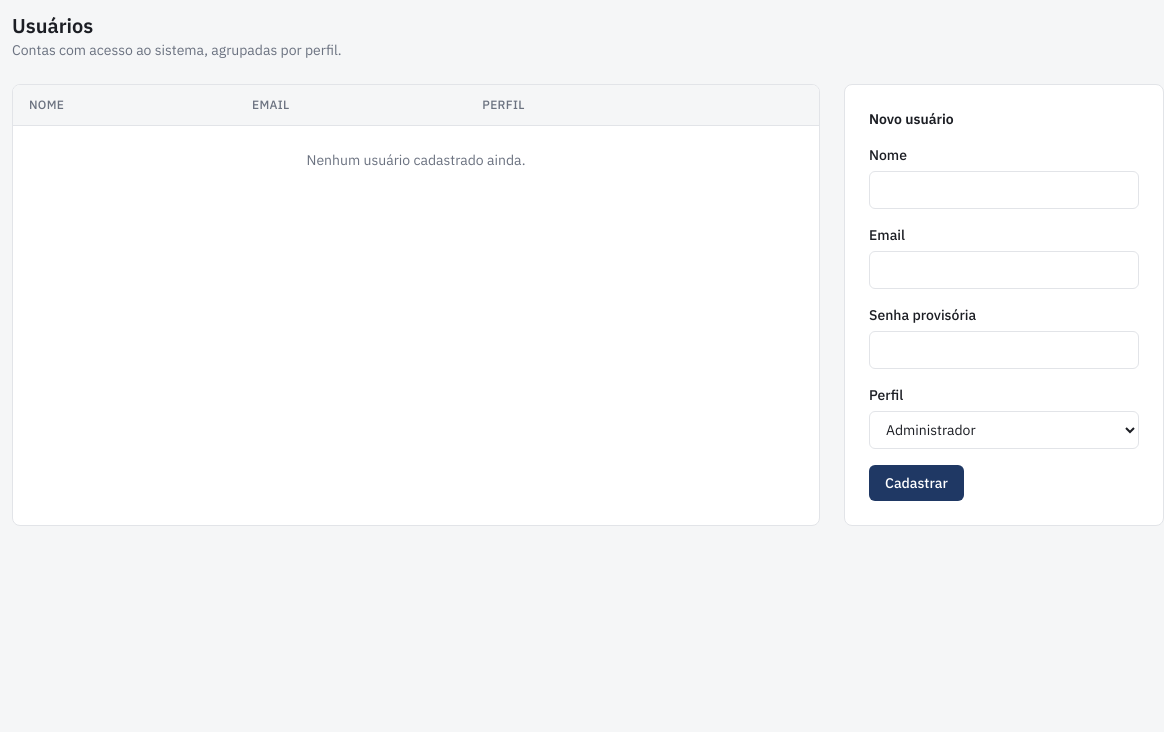
Test: UsuariosPage › mostra o erro da API quando o email já está em uso
The width and height of the screenshot is (1164, 732).
Expected: the dropdown labelled "Perfil" shows "Administrador", [869,411,1139,449]
Type "Bruno" into the field labelled "Nome". click: (1004,190)
box: [869,171,1139,209]
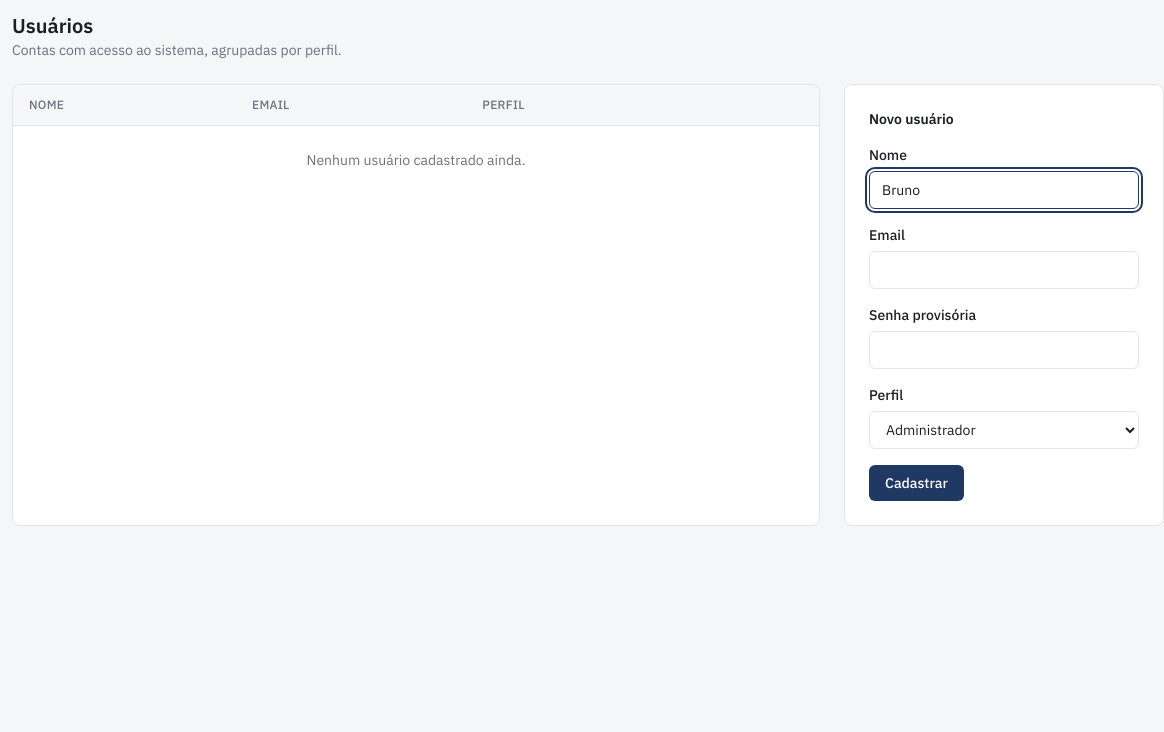
Type "ana@teste.com" into the field labelled "Email". click: (1004,270)
box: [869,251,1139,289]
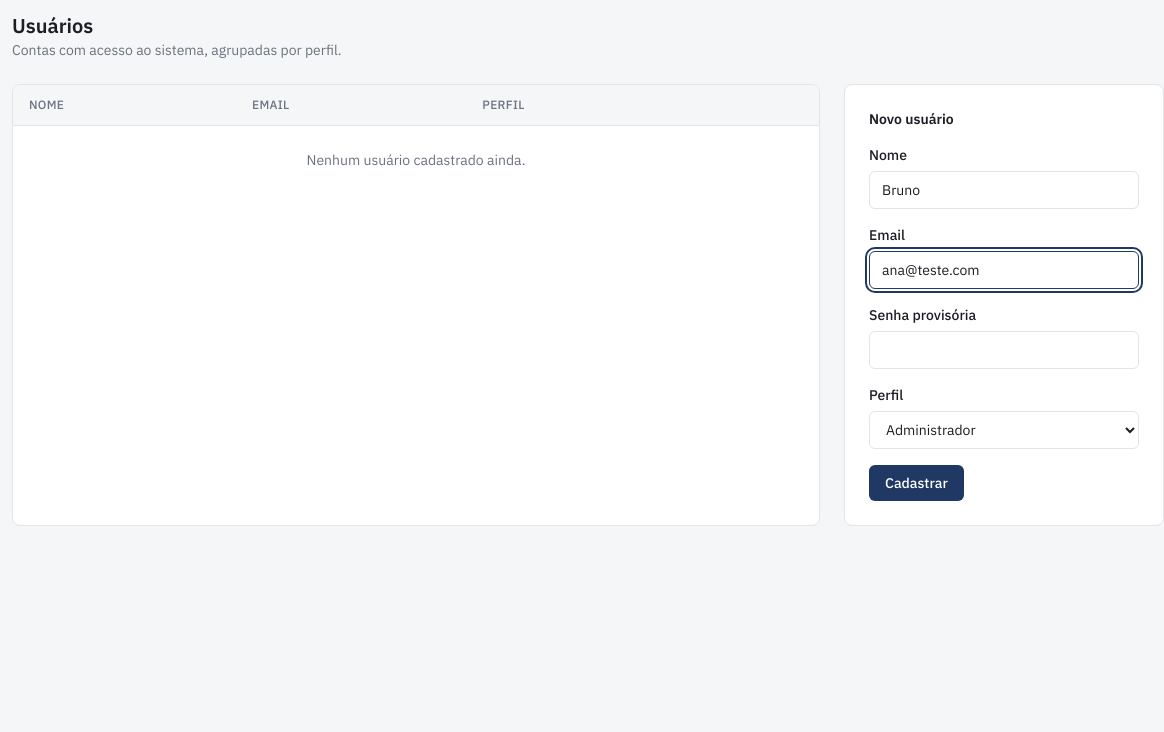
Type "senha12345" into the password field labelled "Senha provisória". click: (1004,350)
box: [869,331,1139,369]
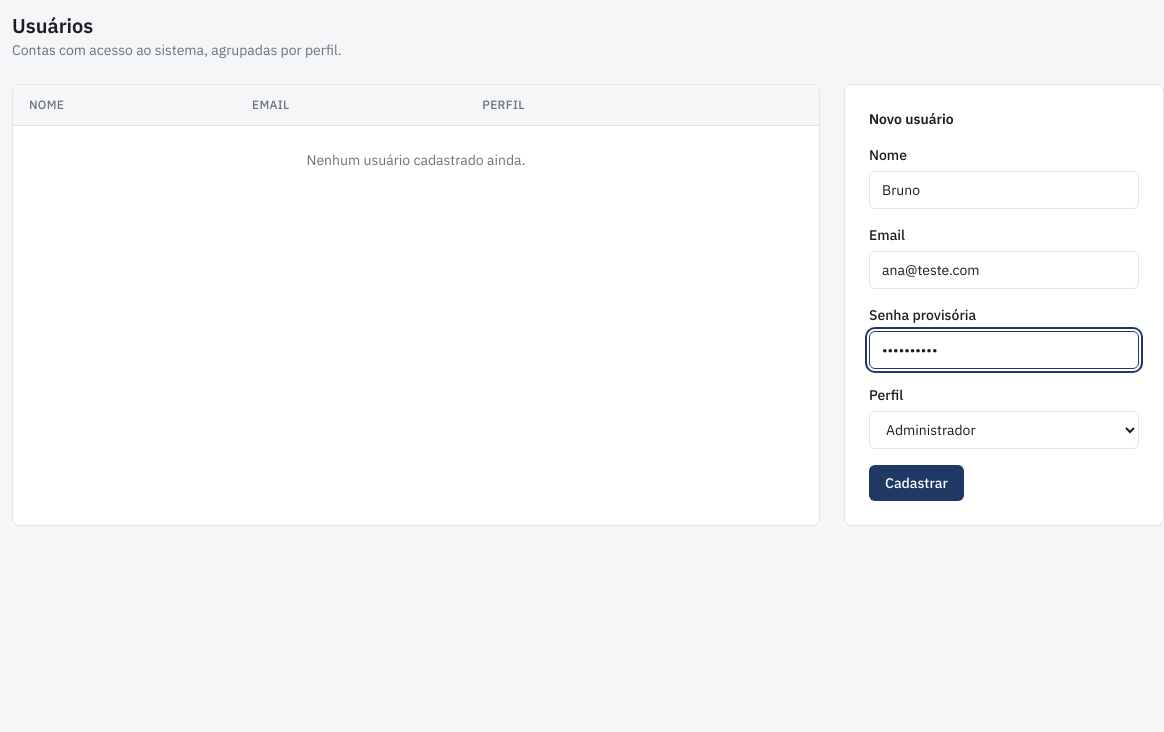
Click the button "Cadastrar". click: (916,483)
box: [869,465,964,501]
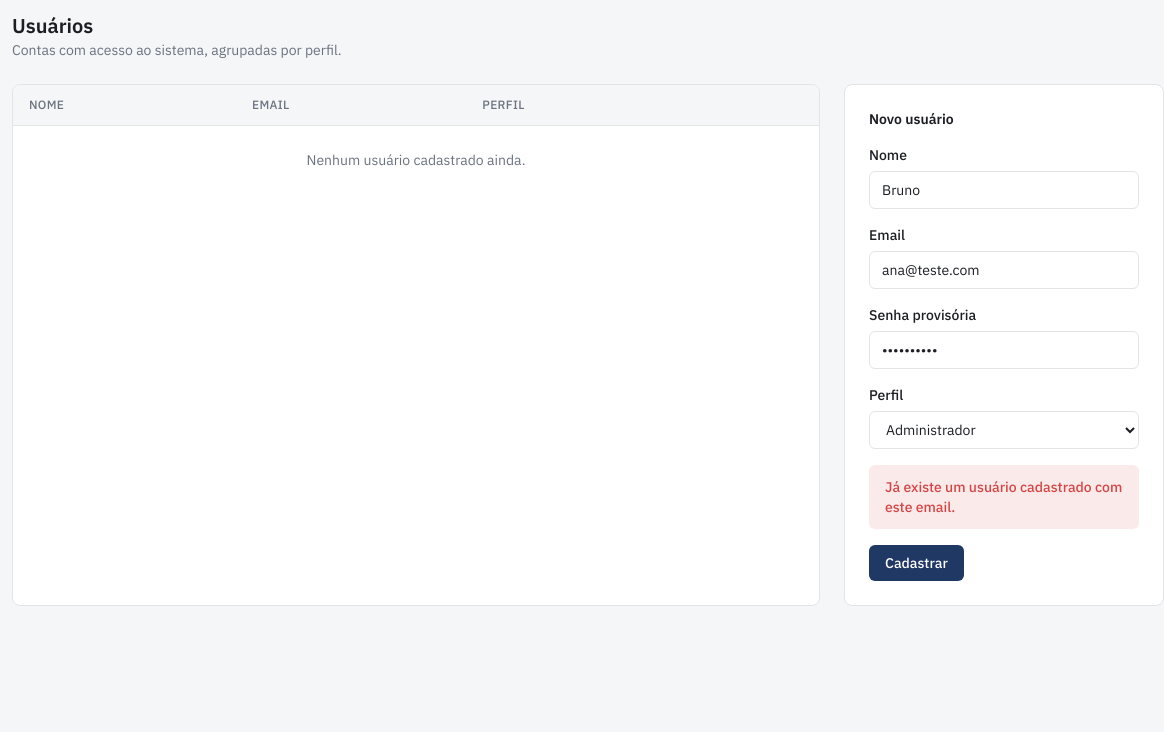
Expected: the message reads "Já existe um usuário cadastrado com este email.", [885,478,1122,516]
